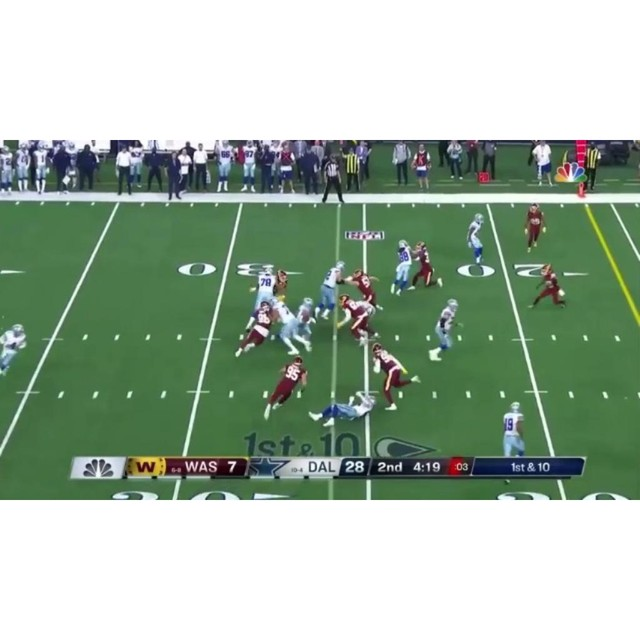american-football-player: (371, 344, 420, 411), (263, 355, 307, 421), (271, 296, 312, 355), (234, 301, 275, 359), (310, 391, 375, 427), (313, 261, 348, 323), (427, 299, 461, 362), (337, 293, 376, 345), (528, 262, 567, 310), (345, 267, 384, 313), (410, 241, 441, 290), (0, 324, 27, 378), (501, 402, 527, 457), (390, 240, 414, 296), (249, 265, 277, 310), (524, 202, 545, 252), (466, 214, 486, 265)
